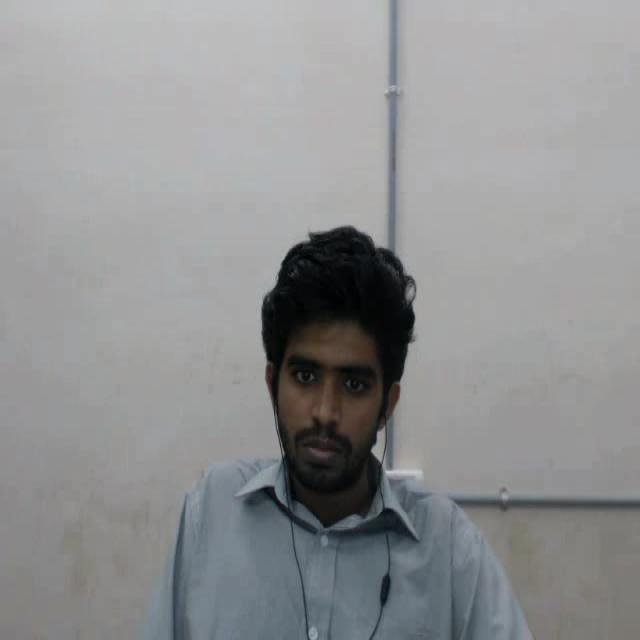Engaged: (247, 222, 436, 538)
